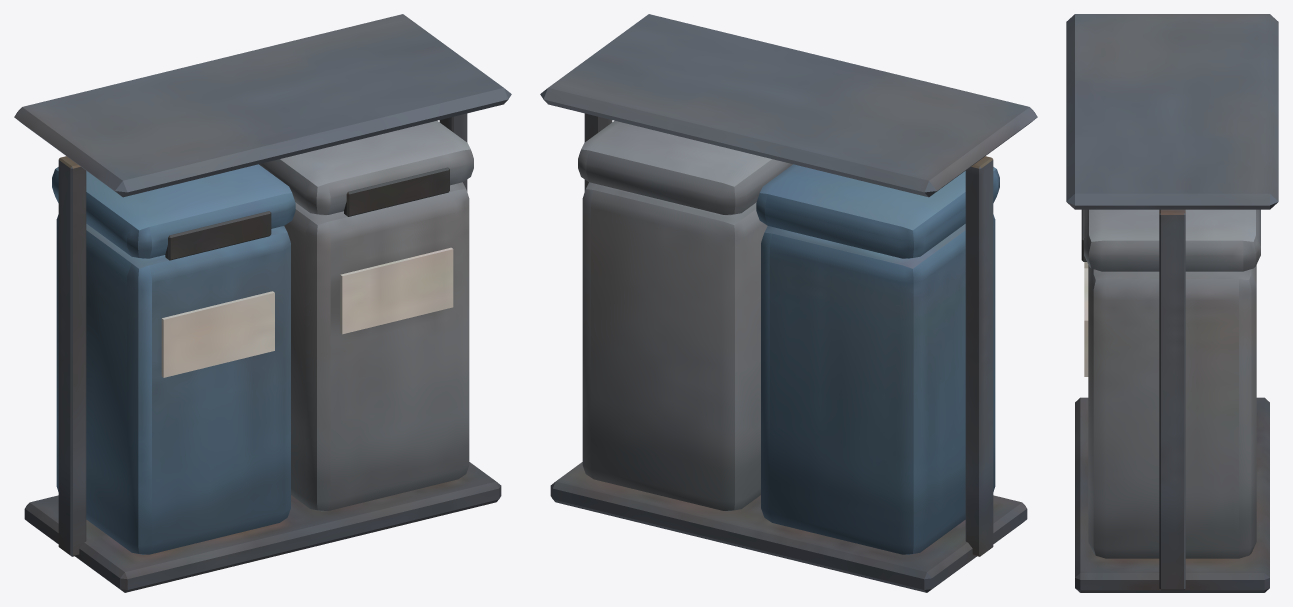
The model's file is bin_public.glb.
The picture shows the model from 3 angles, left to right: view 1: azimuth 30°, elevation 25°; view 2: azimuth 150°, elevation 25°; view 3: azimuth 270°, elevation 25°; orthographic projection. The views are drawn at different scales.
Visible parts, largest first — view 1: bin_public; view 2: bin_public; view 3: bin_public.
Boxes of the visible parts, x1,y1,x2,y2 form: bin_public: [14, 14, 511, 592]; bin_public: [540, 14, 1037, 592]; bin_public: [1066, 14, 1278, 592].
Bounding box in the file's own units: 1 × 1 × 0.48.
5 materials, 5 textured.
